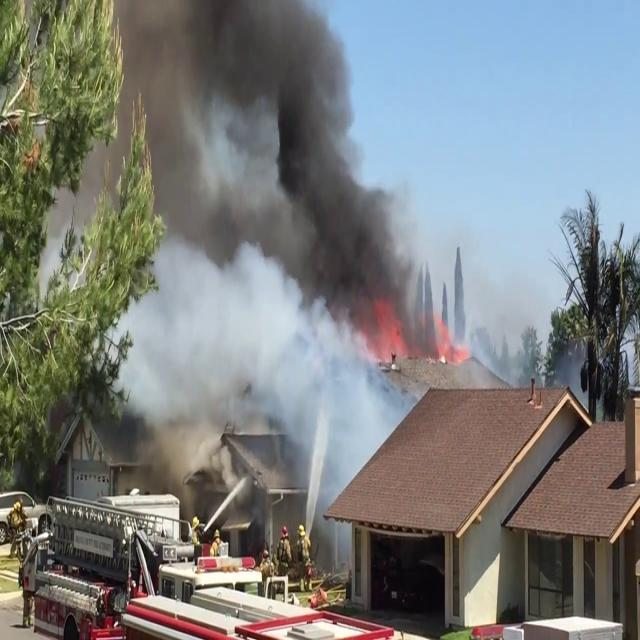Fire: (433, 308, 471, 369)
Smoke: (109, 1, 424, 520)
